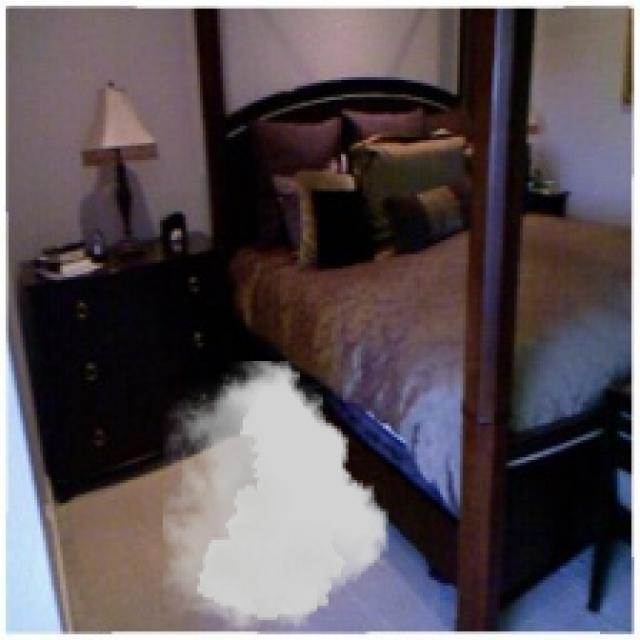Smoke: (162, 359, 388, 632)
